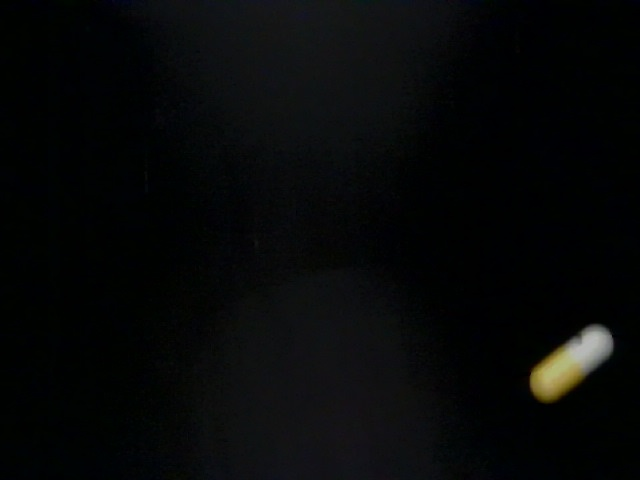YHLJ: (560, 456, 628, 480)
